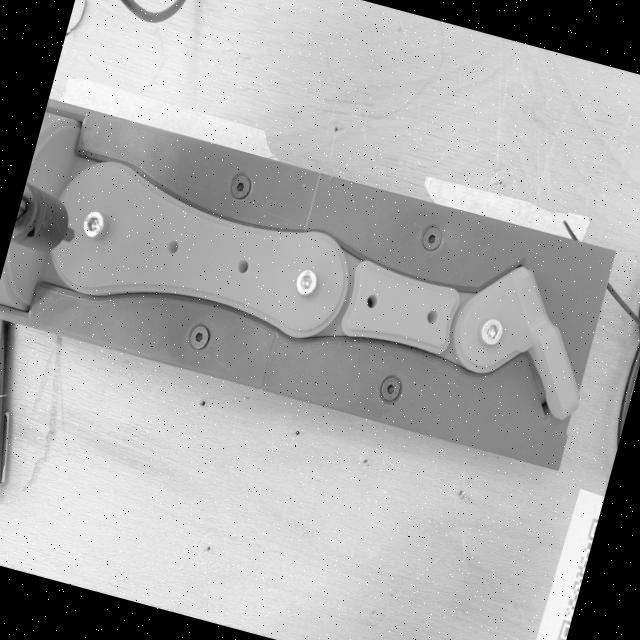Hex Socket Allen: (80, 208, 106, 240), (478, 316, 504, 347), (294, 267, 318, 298), (228, 172, 253, 200), (378, 374, 402, 403), (419, 225, 444, 252), (188, 323, 210, 351)
